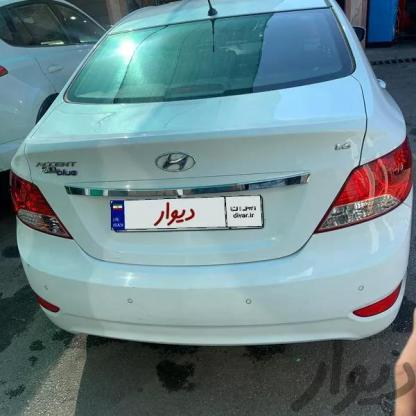Car: (0, 0, 416, 347), (0, 0, 98, 157)
